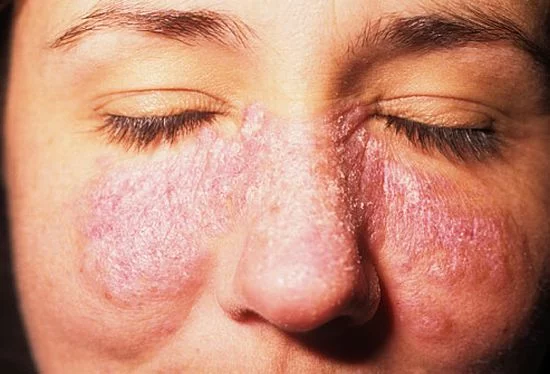Eksim: (64, 100, 544, 345)
